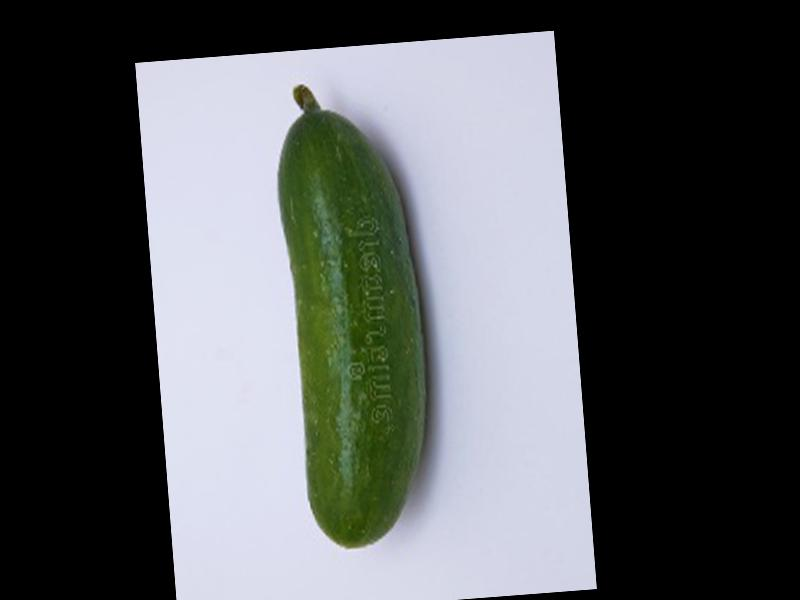Cucumber: (270, 77, 439, 552)
